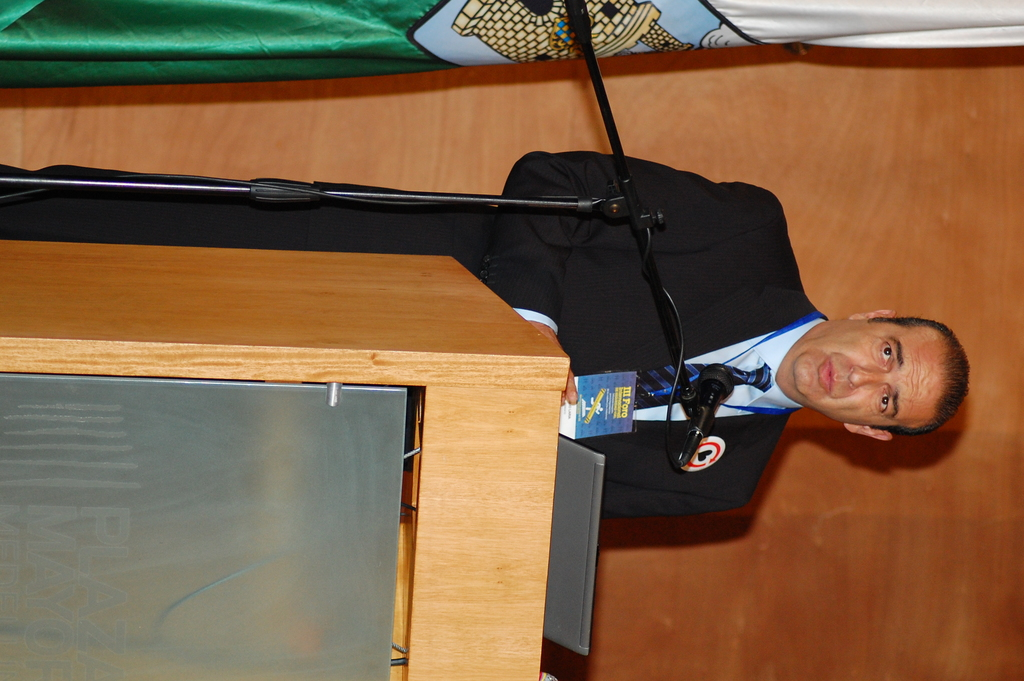Person: (0, 150, 971, 517)
